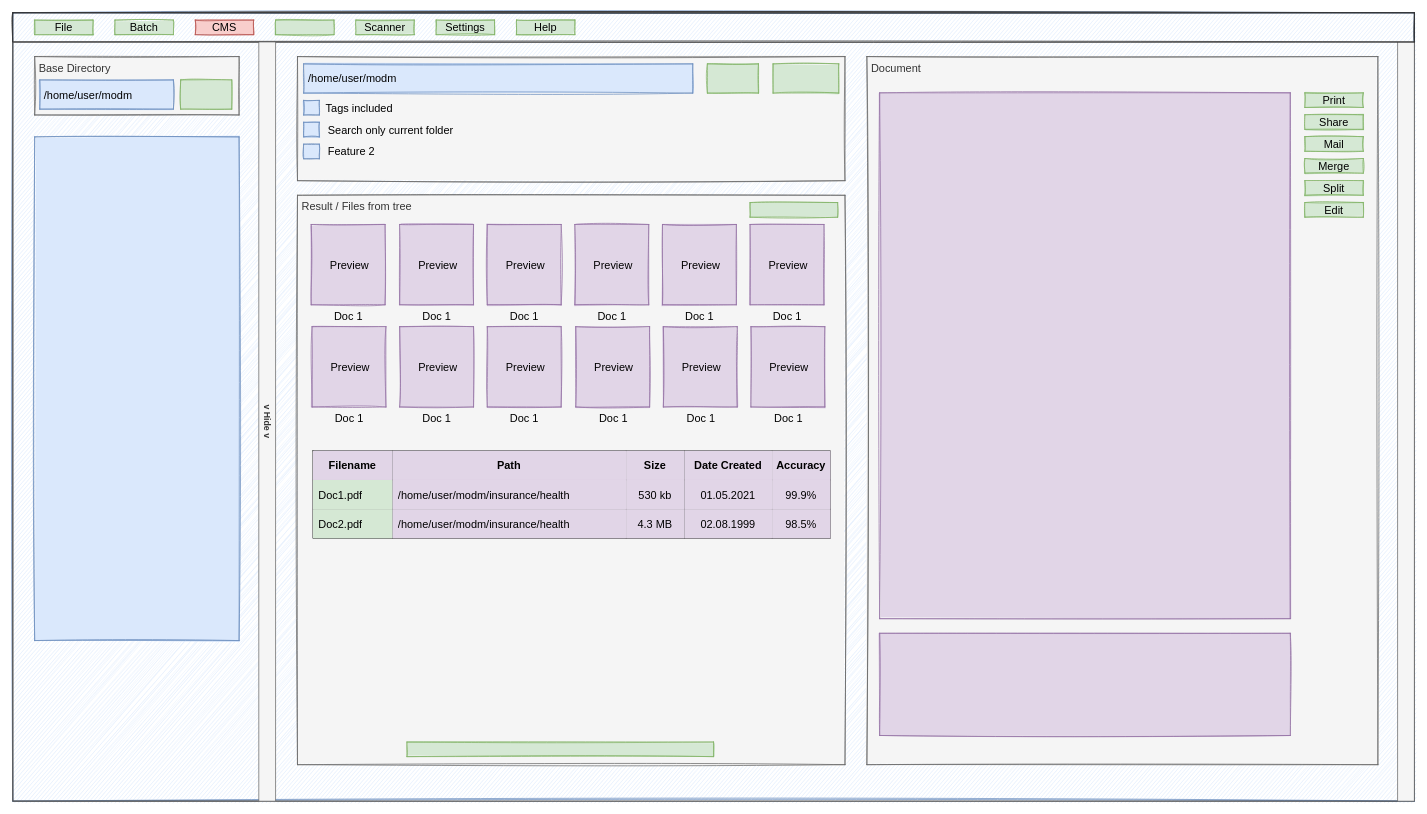
Image size: 1427x814. Some labels were removed from this diagram. The centre of each missing label's shape, as x and y in pixels:
"./ ./invoice ./insurance ./legal ./health ./car ./job ./orders ./bank ./hobby" goes at [136,388].
"<< Page 1 of N >>" goes at [560,749].
"Advanced" goes at [805,78].
"Document Information" goes at [1084,684].
"Inline Document" goes at [1084,355].
"List or Symbol" goes at [793,209].
"Merger" goes at [304,27].
"Search" goes at [732,78].
"Select" goes at [206,94].
